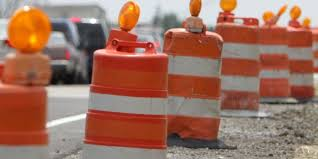barrel: (81, 52, 168, 158), (163, 30, 221, 142), (218, 21, 259, 116), (1, 87, 47, 159), (260, 25, 287, 101), (286, 30, 312, 98), (313, 27, 316, 78)
